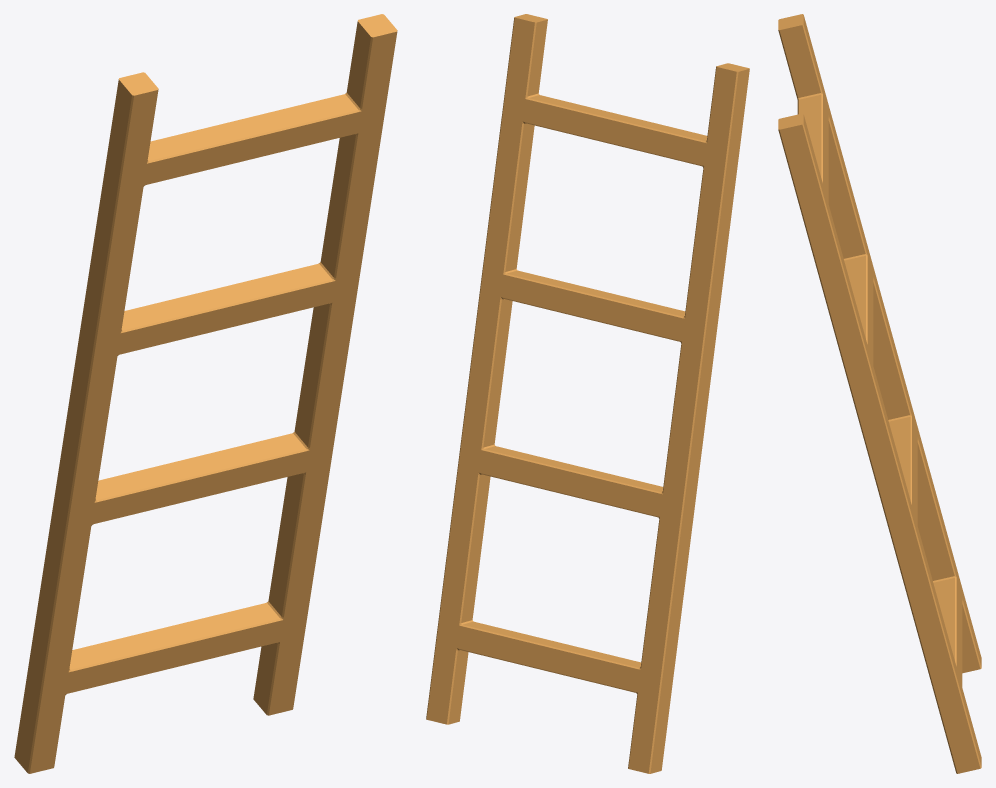
File: ladder.fbx
3 views of the same model, side by side, from view 1: azimuth 30°, elevation 25°; view 2: azimuth 150°, elevation 25°; view 3: azimuth 270°, elevation 25° (orthographic). The views are drawn at different scales.
Visible parts, largest first — view 1: Ladder; view 2: Ladder; view 3: Ladder.
Boxes of the visible parts, left/top/right/bottom form: Ladder: left=14, top=14, right=397, bottom=773; Ladder: left=426, top=14, right=749, bottom=773; Ladder: left=778, top=14, right=981, bottom=773.
Bounding box in the file's own units: 200 × 548 × 156.
